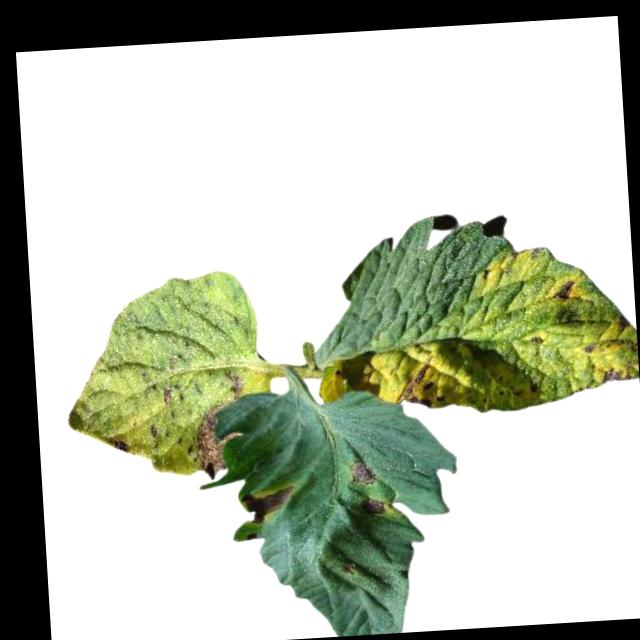Early_blight: (190, 368, 249, 480), (239, 484, 297, 525), (400, 360, 448, 408), (549, 275, 578, 303), (349, 456, 377, 484), (362, 493, 387, 516), (108, 435, 132, 456), (603, 365, 623, 384), (163, 384, 177, 407)
